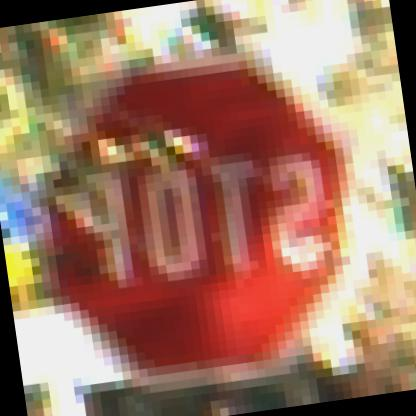stop: (22, 34, 388, 400)
